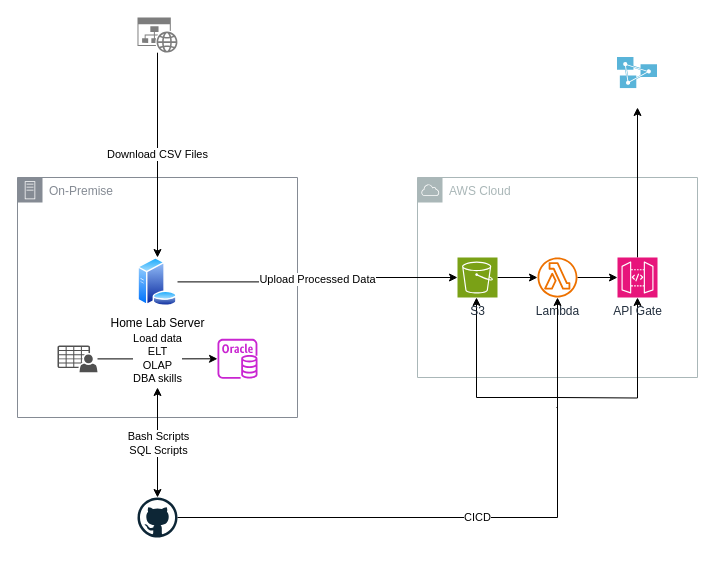
The diagram is 715 pixels wide and 575 high, and some of its shapes have lost their labels. Here are the shapes that lost their labels. From the top down, the box of each, then its label:
(137, 17, 177, 52): Toronto OPEN DATA Shared-bike Data
(617, 57, 657, 88): Data Visulization
(136, 496, 178, 538): GitHub
